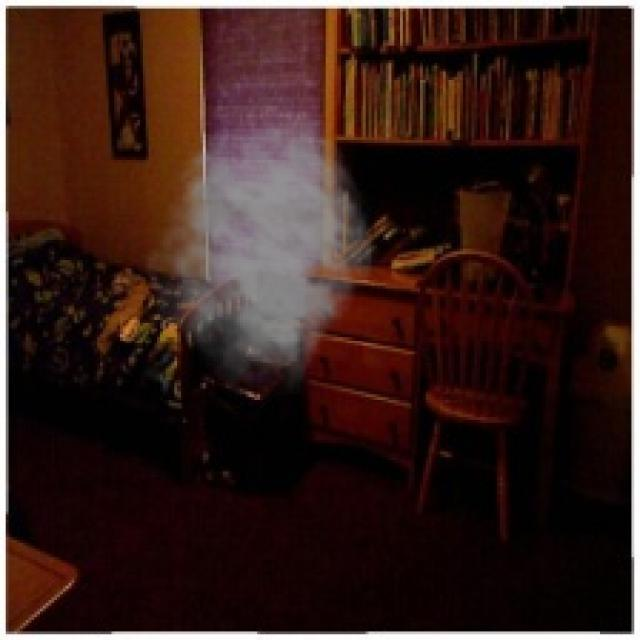Smoke: (143, 112, 374, 394)
